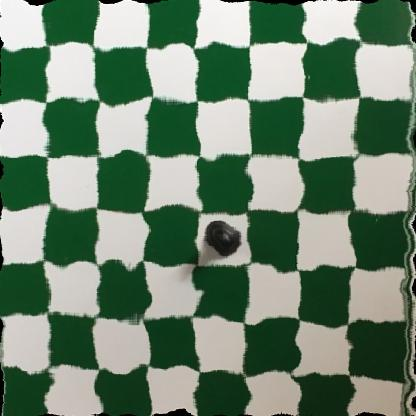black-pawn: (205, 219, 241, 259)
